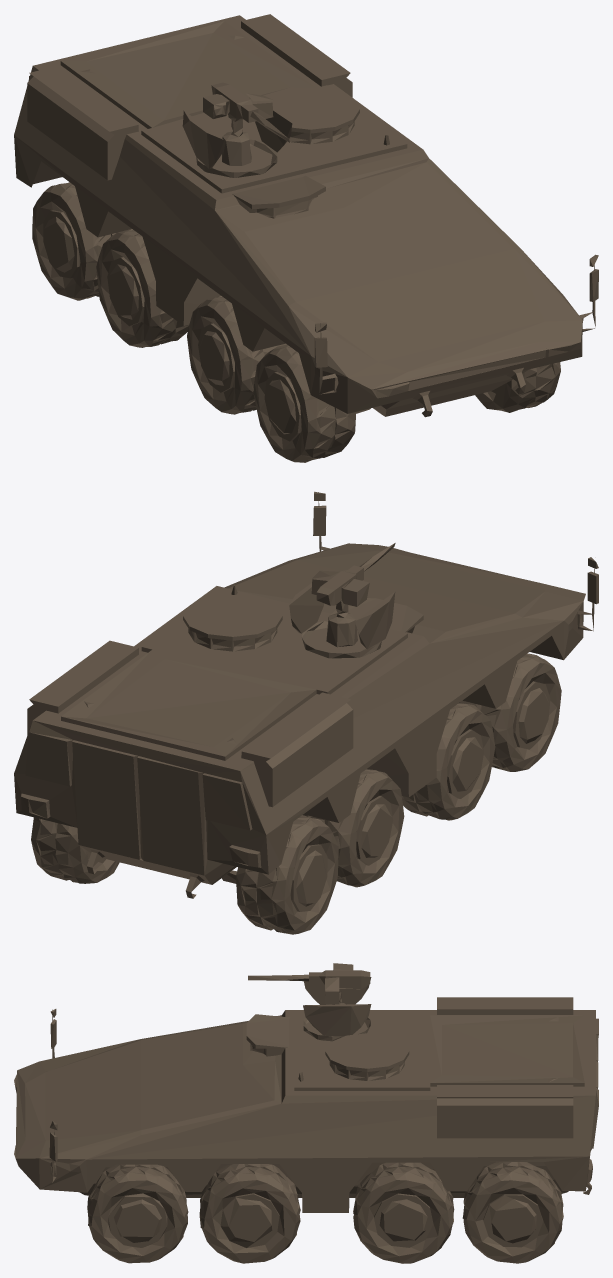
The model's file is IFV.glb.
3 views of the same model, one above another, from view 1: azimuth 30°, elevation 25°; view 2: azimuth 150°, elevation 25°; view 3: azimuth 270°, elevation 25° (orthographic). The views are drawn at different scales.
Parts seen in each view (by area): view 1: ifv_vfertig_lambert1_0; view 2: ifv_vfertig_lambert1_0; view 3: ifv_vfertig_lambert1_0.
Part boxes in pixels (bbox=[...]): ifv_vfertig_lambert1_0: bbox=[14, 14, 598, 462]; ifv_vfertig_lambert1_0: bbox=[14, 491, 598, 934]; ifv_vfertig_lambert1_0: bbox=[14, 963, 598, 1263].
Bounding box in the file's own units: 415 × 363 × 874.
